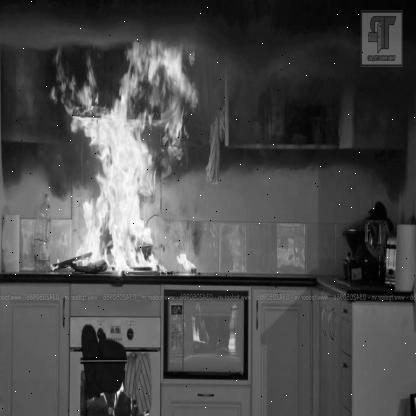fire: (42, 42, 201, 287)
smoke: (0, 0, 416, 118)
